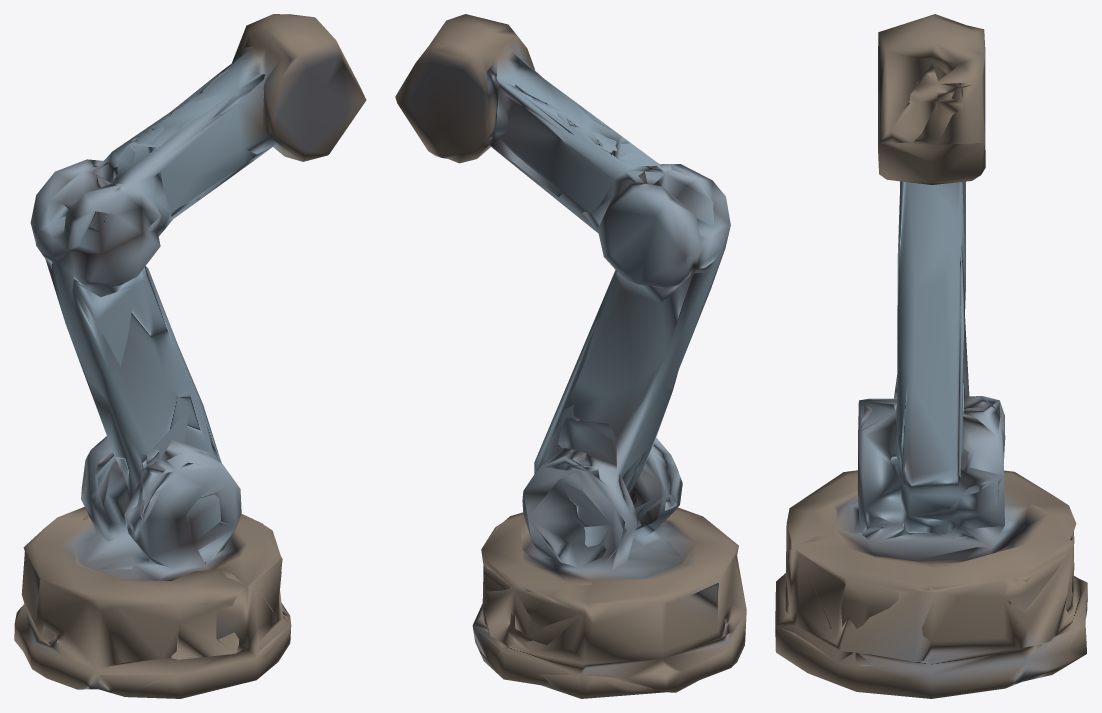
The model's file is gen3d-robot-arm-lod0.glb.
3 renders of one model, left to right at view 1: azimuth 30°, elevation 25°; view 2: azimuth 150°, elevation 25°; view 3: azimuth 270°, elevation 25°, orthographic. The views are drawn at different scales.
Visible parts, largest first — view 1: part_0; view 2: part_0; view 3: part_0.
Boxes of the visible parts, x1=… form: part_0: x1=14, y1=14, x2=366, y2=698; part_0: x1=395, y1=14, x2=746, y2=698; part_0: x1=775, y1=14, x2=1087, y2=698.
Size of the model in its own units: 0.5704 by 0.9967 by 0.4108.
